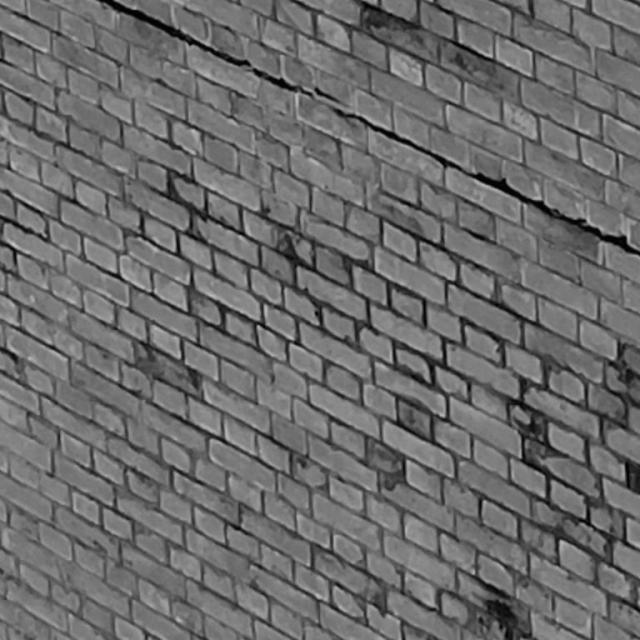crack: (99, 1, 640, 255)
